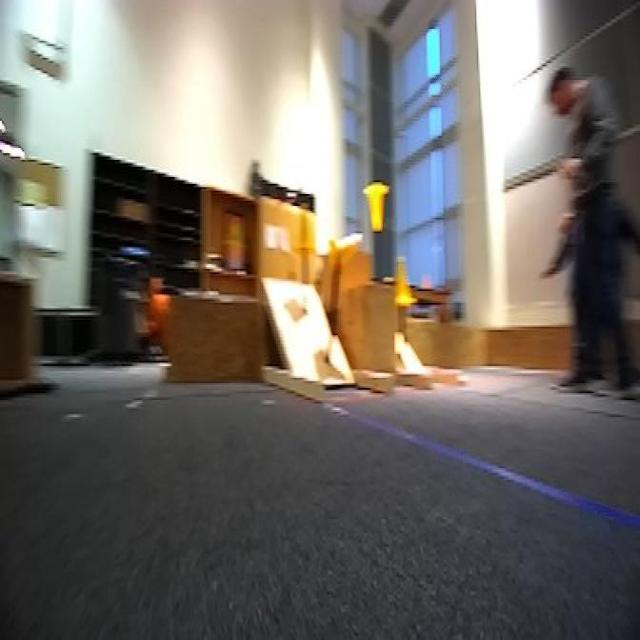frc_cone: (326, 226, 362, 268), (361, 184, 389, 233), (393, 253, 412, 304), (296, 206, 314, 255)
